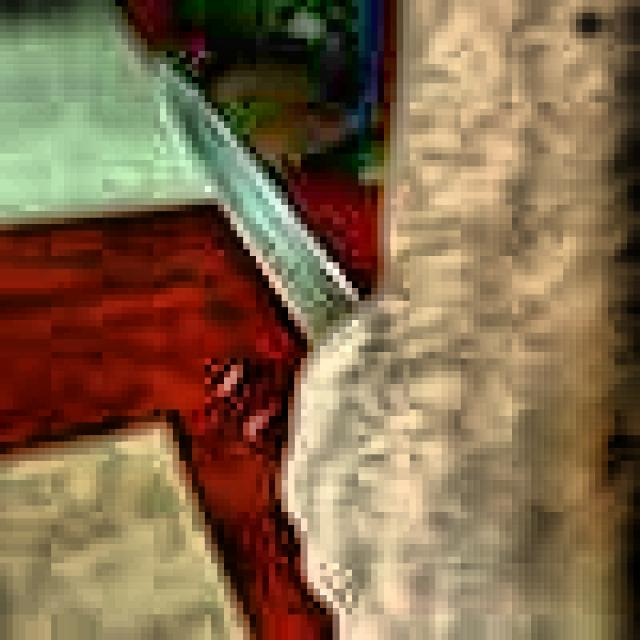knife: (160, 66, 367, 347)
